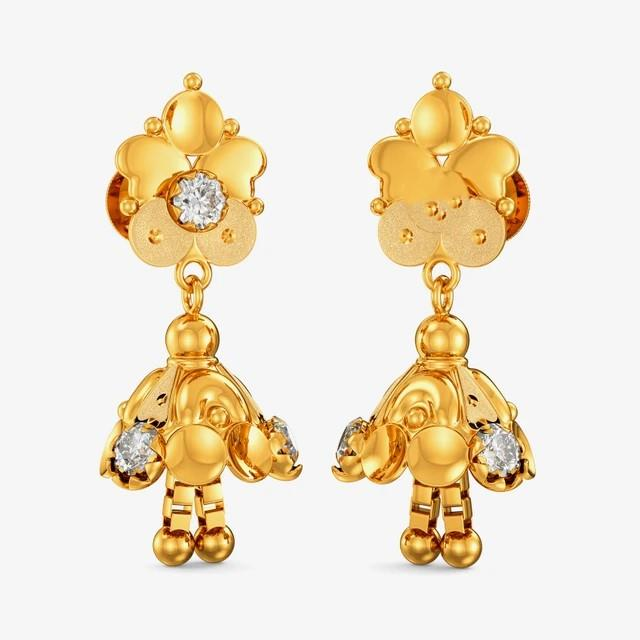missing gem: (405, 167, 471, 233)
